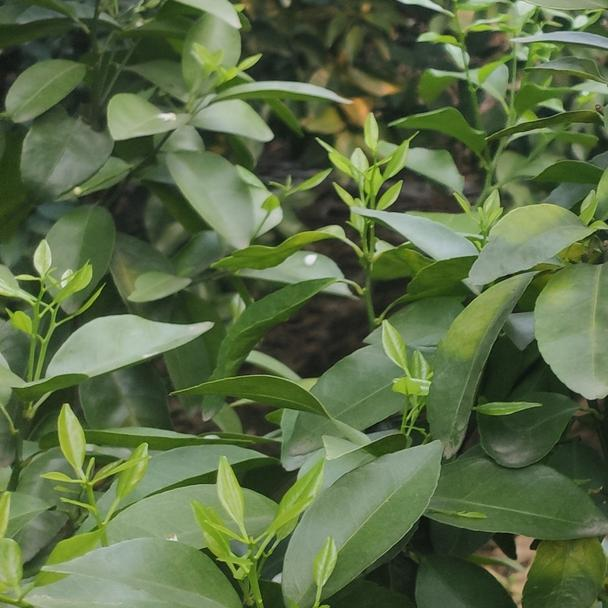shoot: (194, 454, 324, 593), (60, 422, 143, 553), (324, 123, 410, 248), (3, 252, 96, 362)
